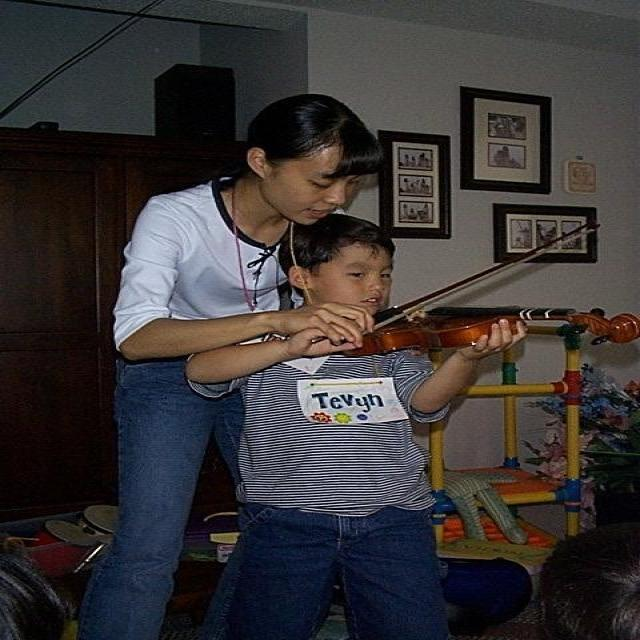violin: (344, 302, 640, 353)
